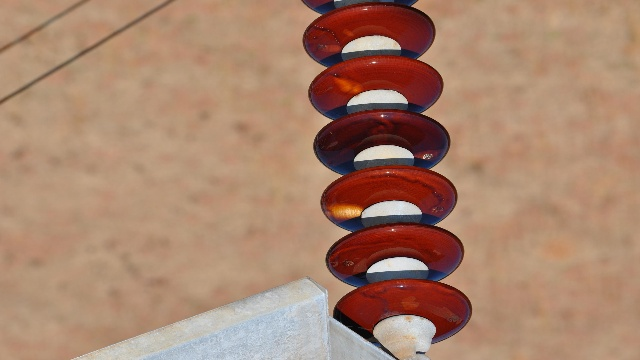insulator_unspecified: (301, 0, 473, 344)
pollution_flashover_local: (324, 201, 362, 224), (331, 73, 365, 96), (319, 43, 342, 54)
